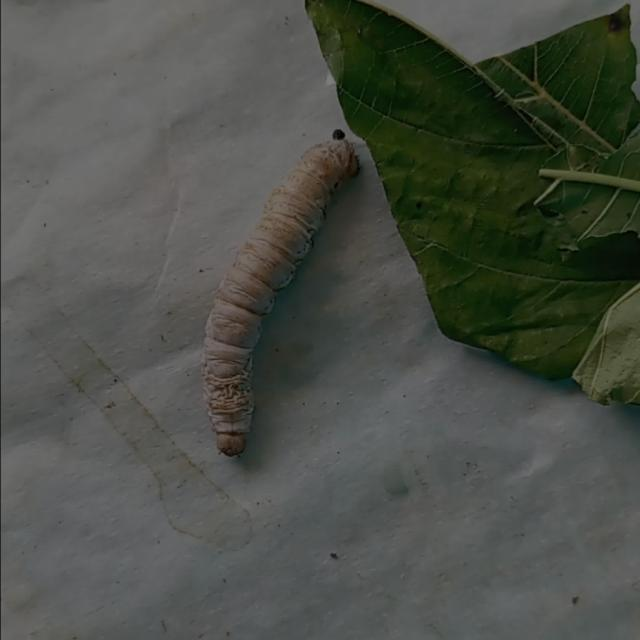Grasserie: (147, 95, 410, 583)
